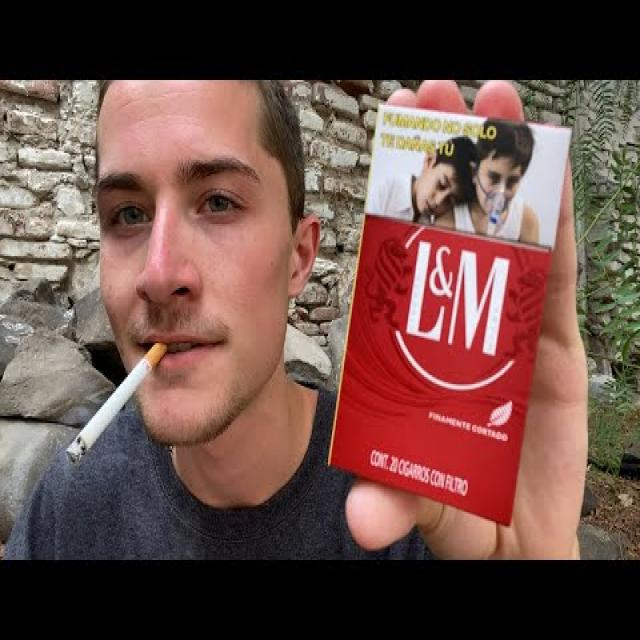lm: (331, 110, 580, 534)
